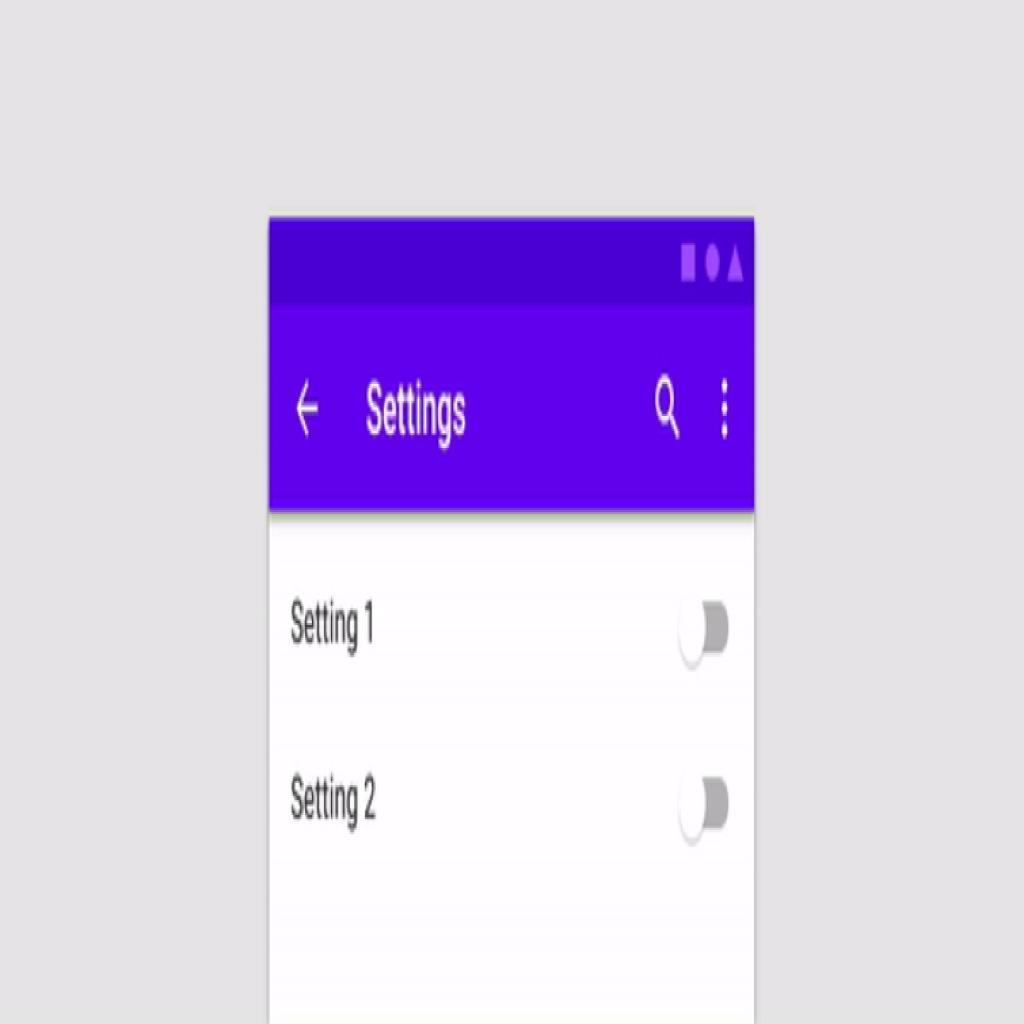icon: (289, 377, 333, 447), (648, 369, 688, 444), (712, 367, 743, 449)
switch: (678, 757, 737, 851), (674, 588, 731, 679)
